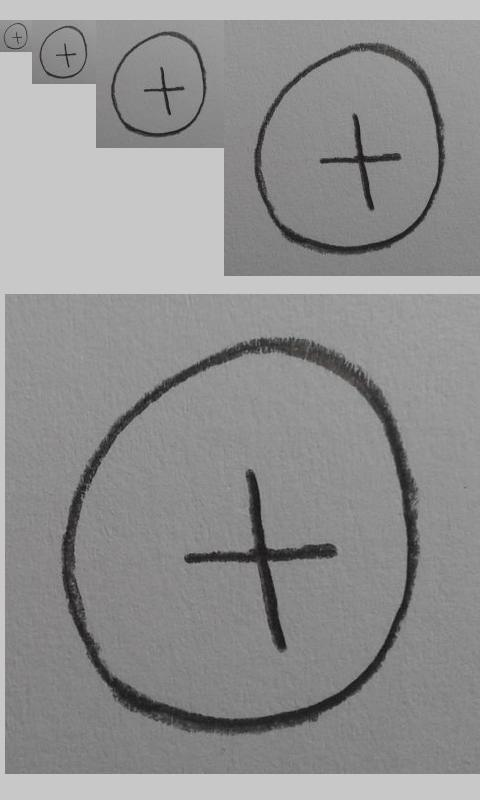button: (59, 336, 423, 735), (253, 42, 445, 256), (110, 30, 207, 138), (39, 26, 88, 79), (3, 23, 28, 50)
